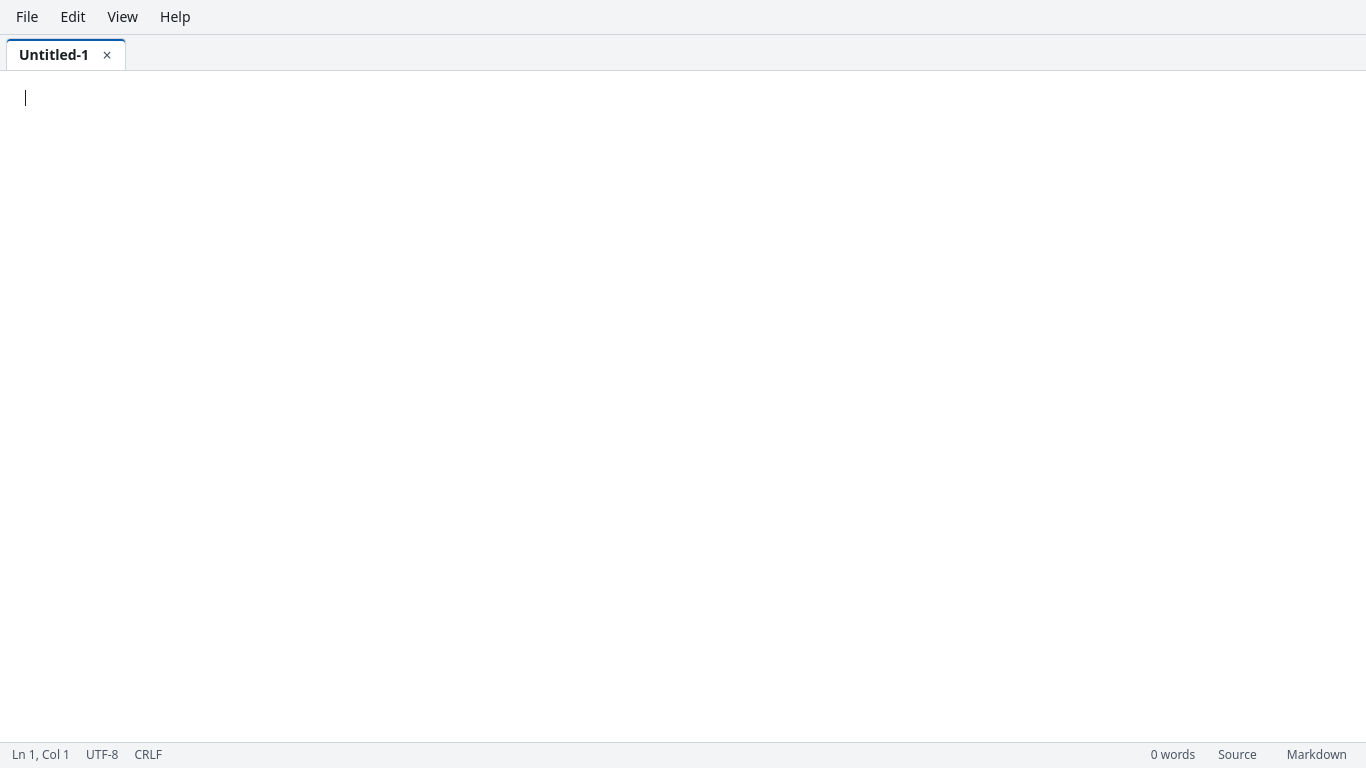
Test case: menu bar › shows an About dialog
Expected: the tab "Untitled-1" is shown, left=7, top=39, right=93, bottom=70
Step 1. Click the menu item "Help" → (175, 17), box left=150, top=3, right=201, bottom=31
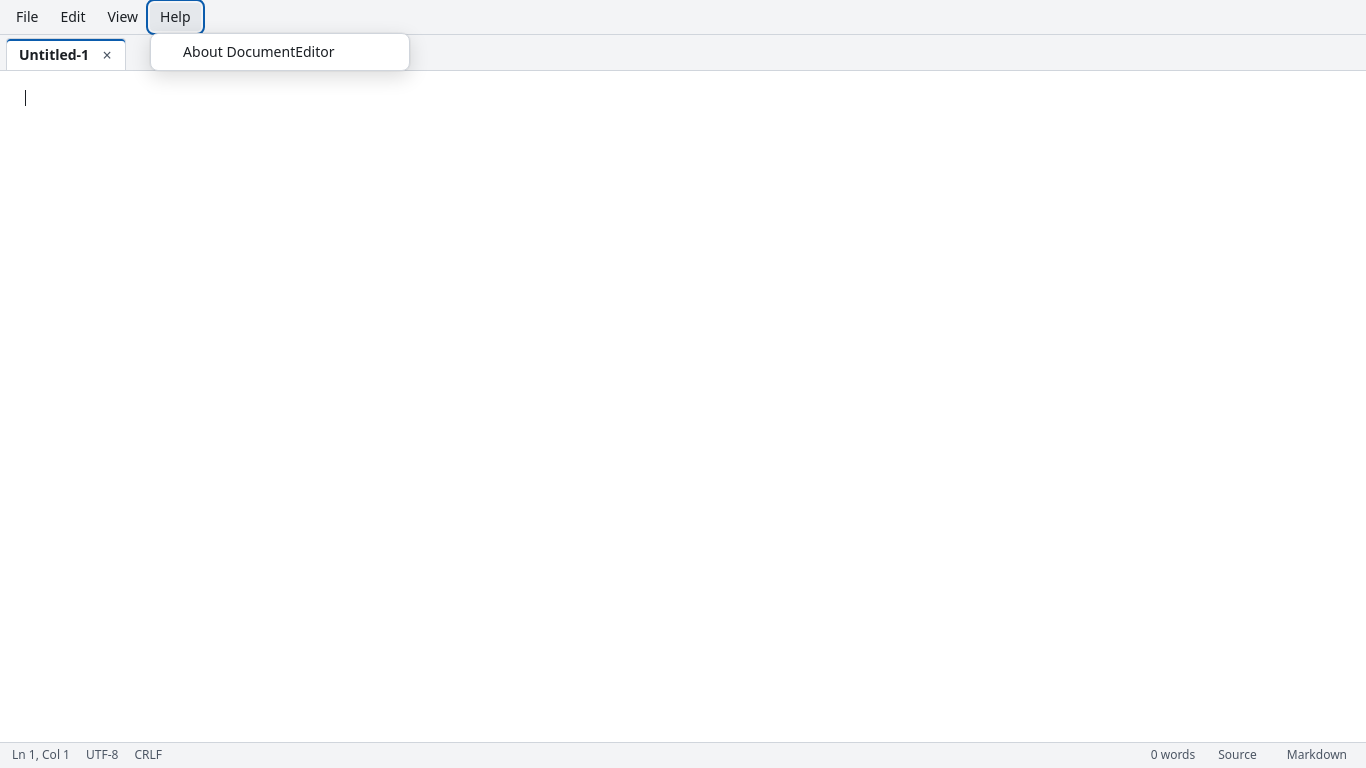
Step 2. Click the menu item "About DocumentEditor" → (280, 52), box left=155, top=38, right=405, bottom=66
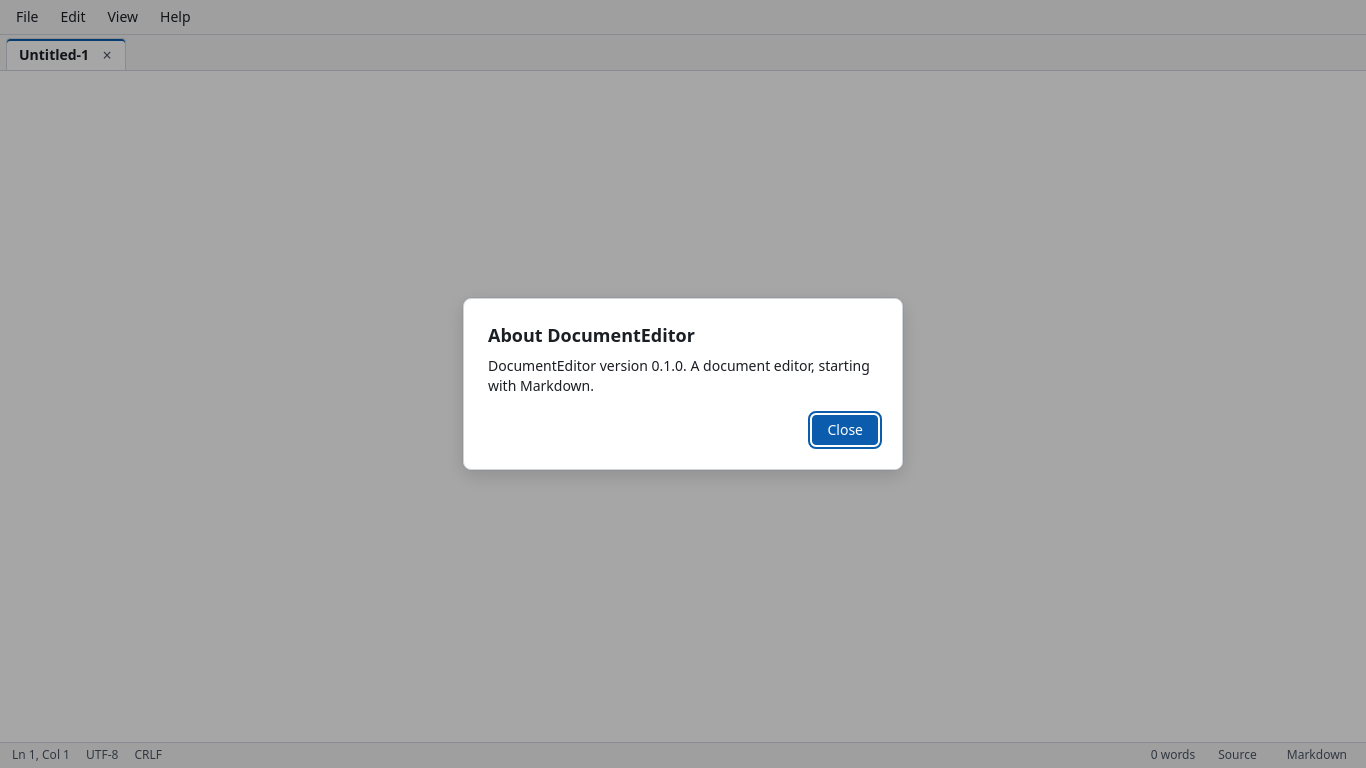
Result: the dialog shows "DocumentEditor" at left=488, top=323, right=695, bottom=347
Step 3. Click the button "Close" → (845, 430), box left=812, top=415, right=878, bottom=445
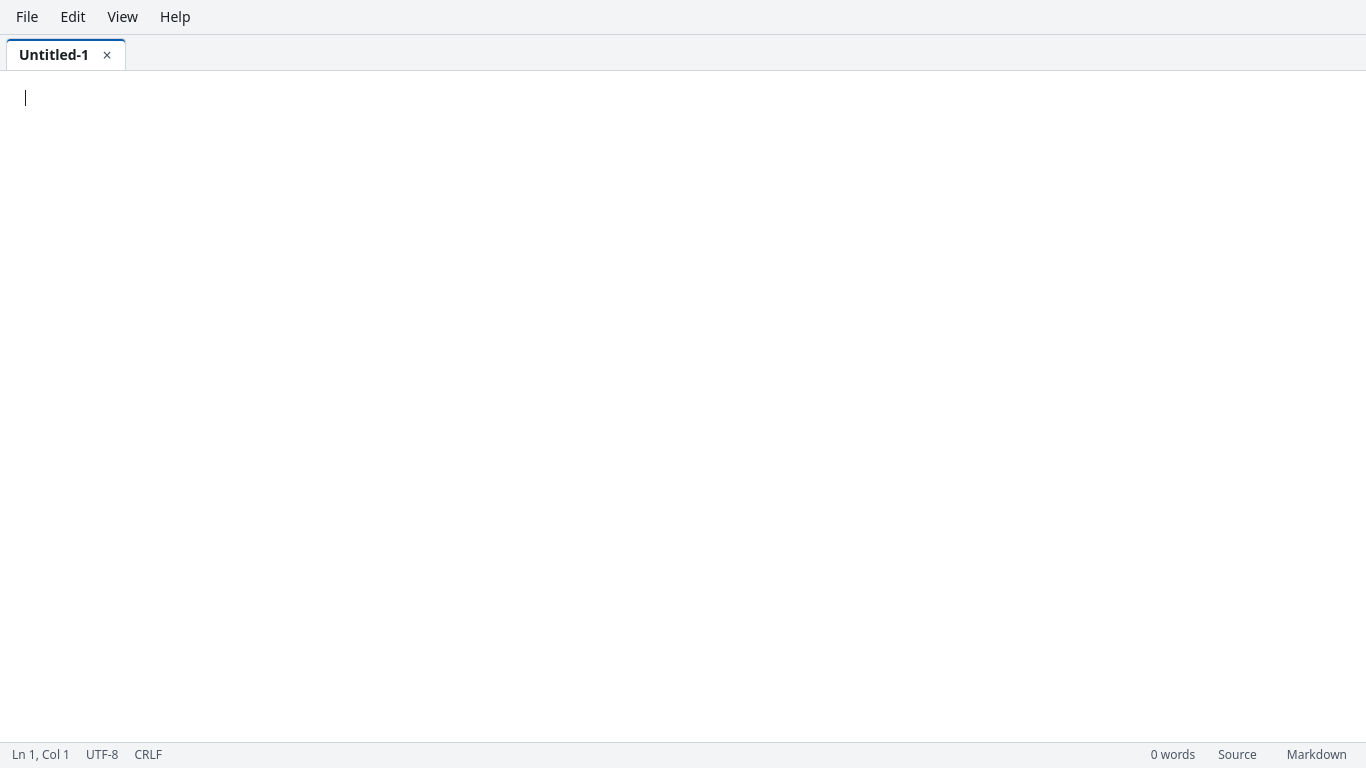
Result: the dialog is gone
